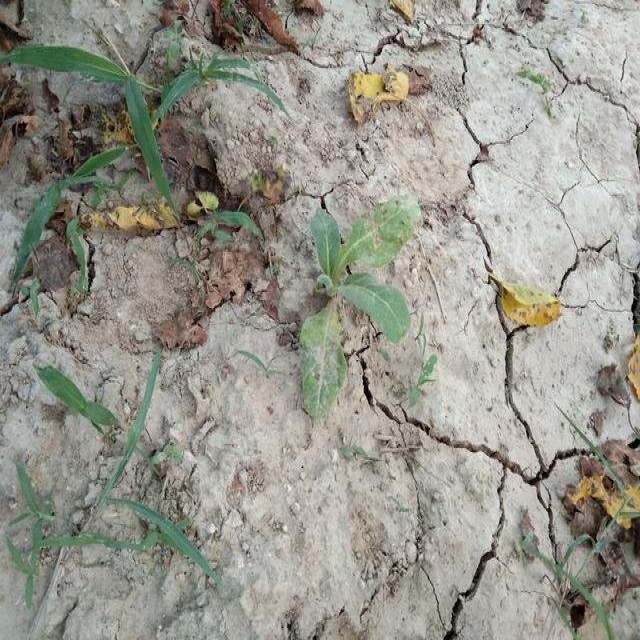crop: (290, 190, 422, 418)
